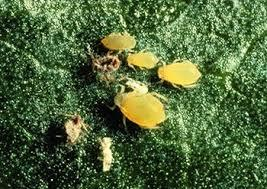insect: (101, 78, 178, 138), (155, 54, 203, 90), (122, 46, 164, 76), (98, 26, 141, 55)
